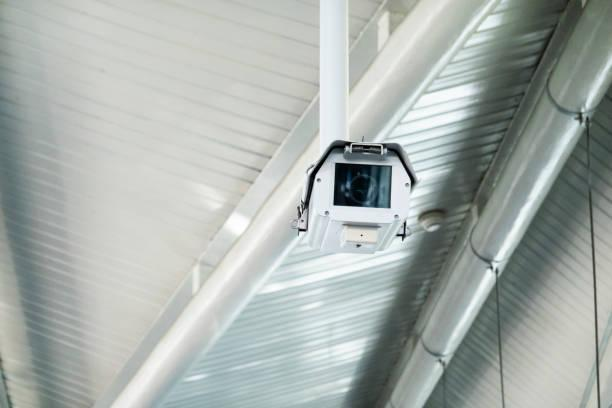camera: (277, 125, 437, 271)
